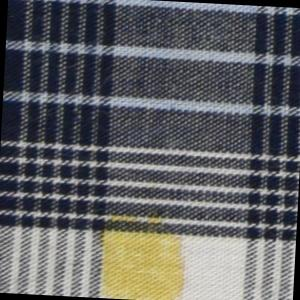Stain: (93, 208, 189, 300)
